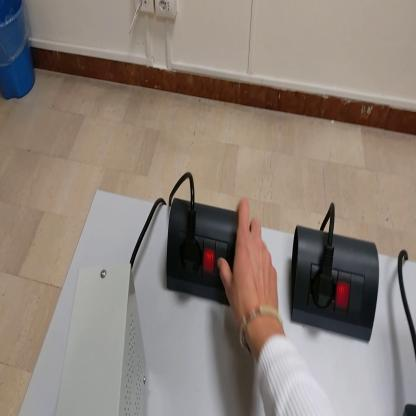hand: (219, 198, 281, 335)
power supply: (55, 258, 149, 416)
socket: (291, 225, 381, 344), (169, 200, 240, 308)
